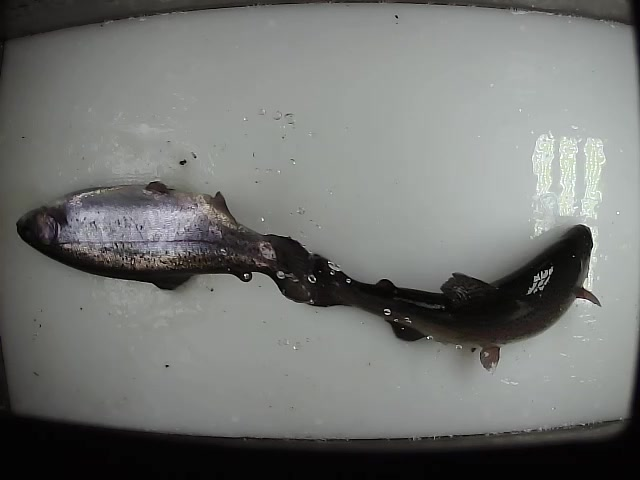fish: (305, 221, 602, 377), (15, 175, 326, 305)
